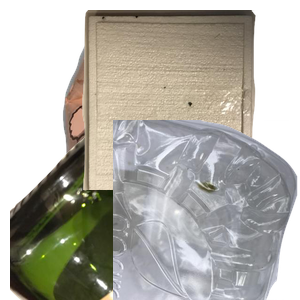glass: (10, 120, 250, 300)
metal: (60, 10, 300, 190)
plastic: (113, 120, 300, 300)
trash: (80, 10, 300, 190)
